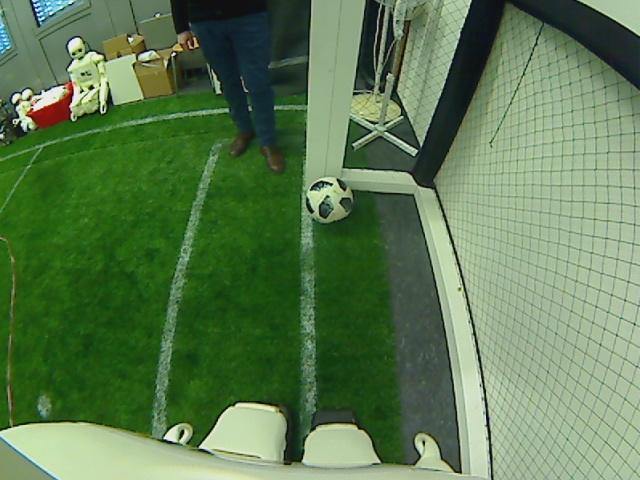ball: (306, 175, 355, 223)
